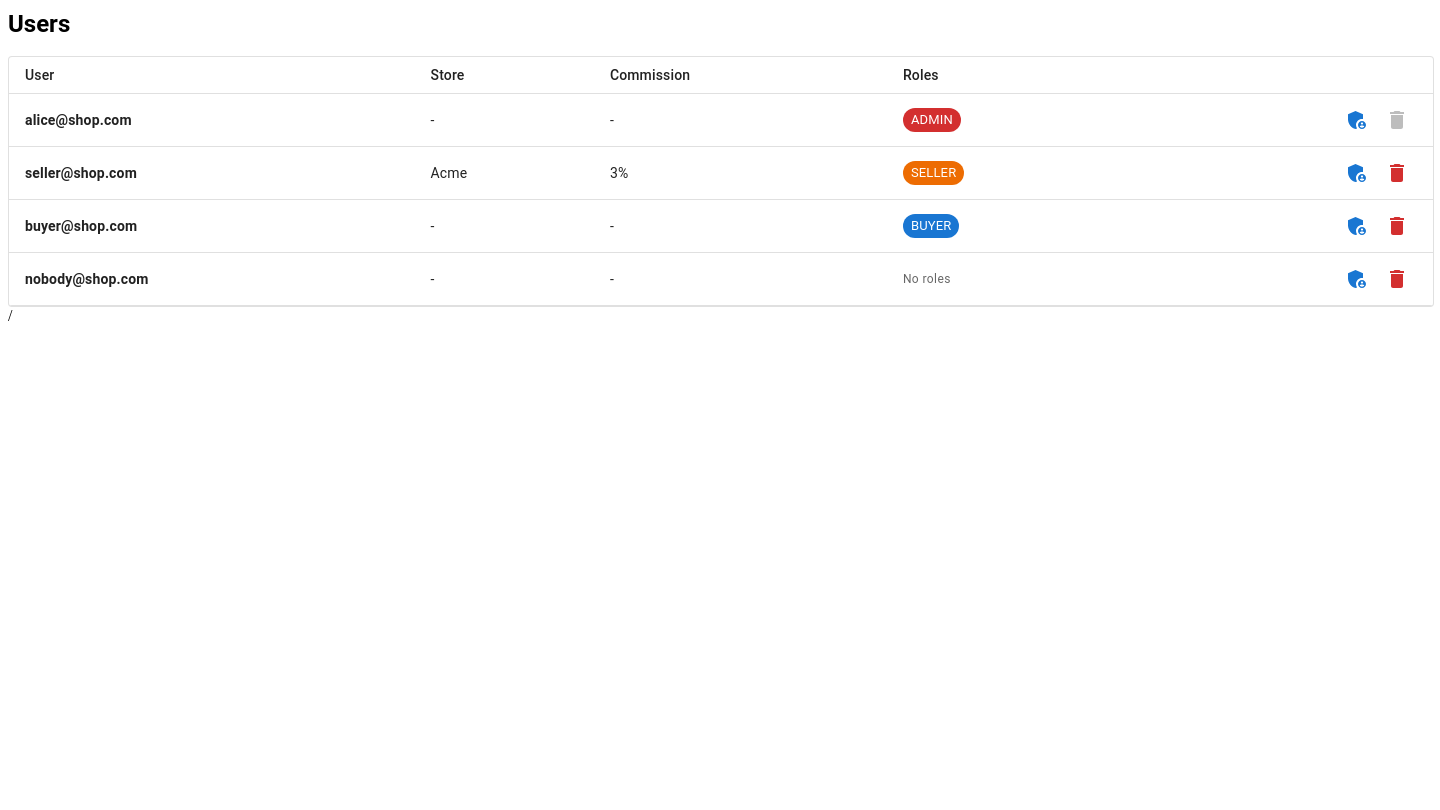
it: AdminUsers › opens the roles dialog with the user's roles ticked
Click the button named "Roles for seller@shop.com": (1357,173) [1337, 153, 1377, 193]
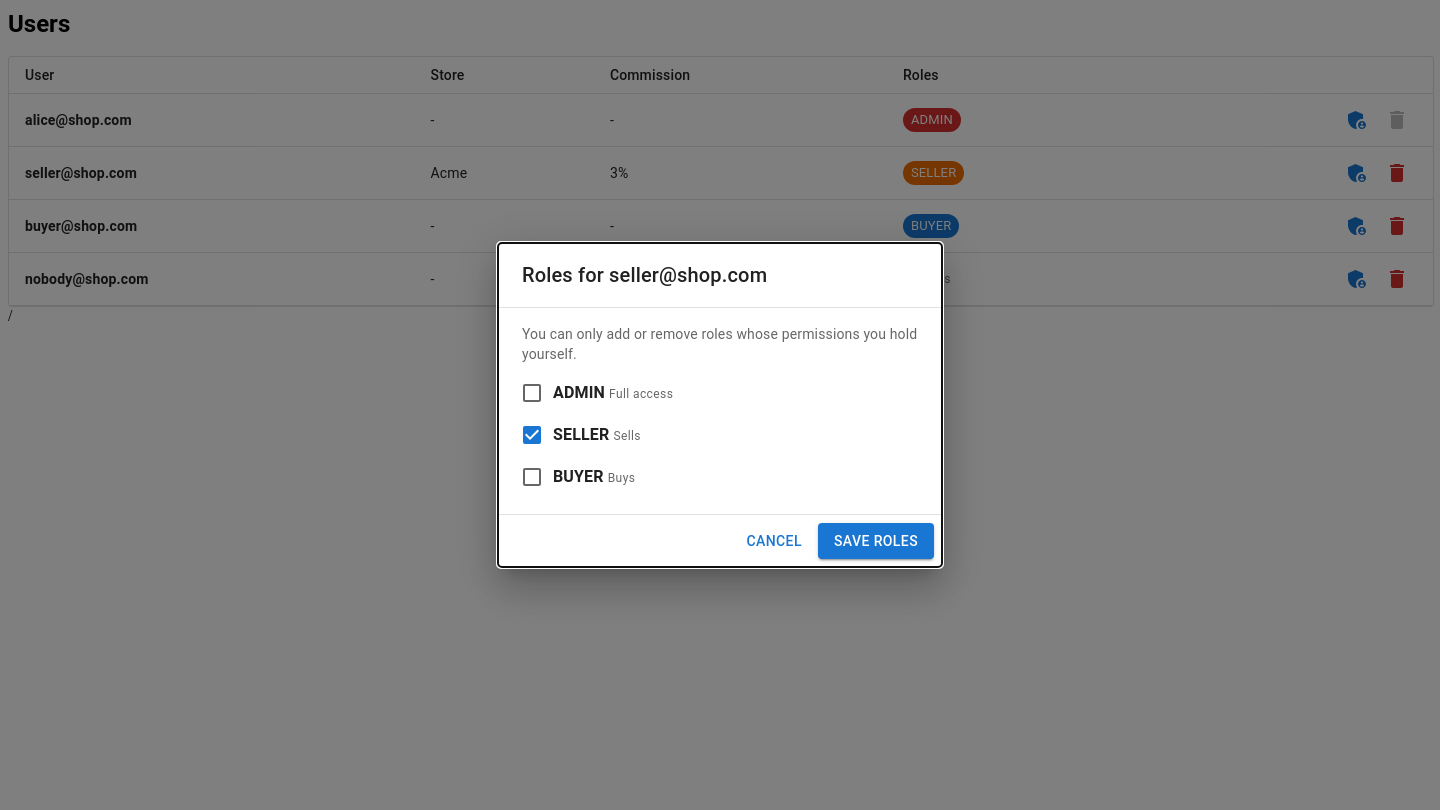
Now the heading "Roles for seller@shop.com" is shown, box [522, 263, 767, 287]
Now the checkbox labelled "SELLER Sells" is checked, box [520, 423, 641, 447]
Now the checkbox labelled "BUYER Buys" is not checked, box [520, 465, 635, 489]
